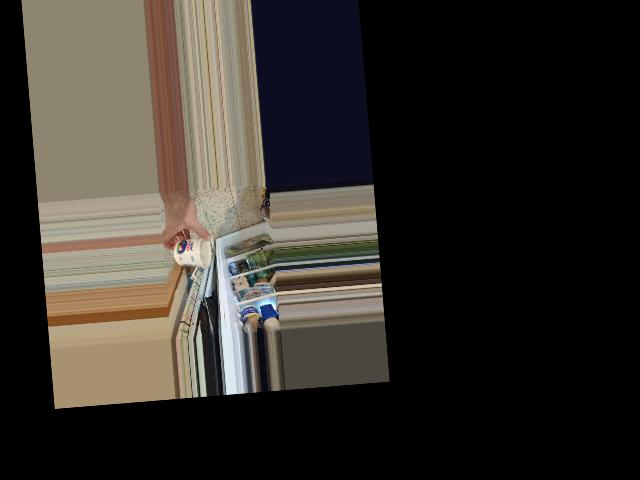cotage: (170, 235, 213, 270)
